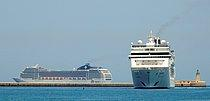Ship: (124, 27, 180, 91), (10, 62, 116, 88)
